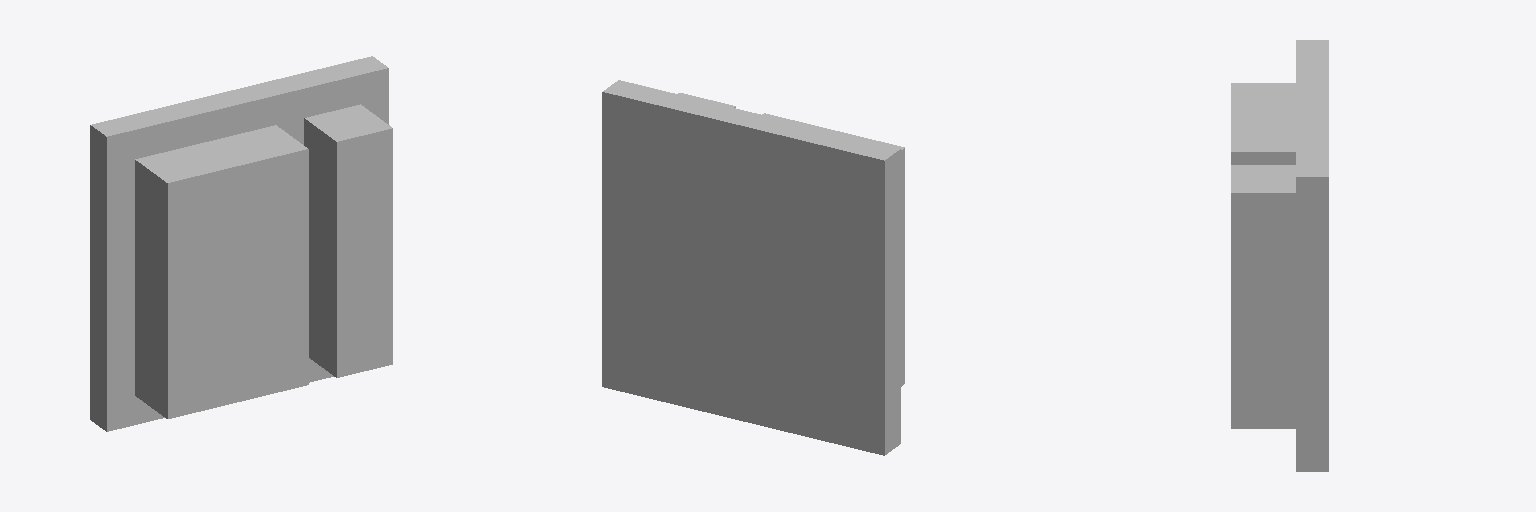
File: Card Reader.obj
3 views of the same model, side by side, from view 1: azimuth 30°, elevation 25°; view 2: azimuth 150°, elevation 25°; view 3: azimuth 270°, elevation 25° (orthographic).
Visible parts, largest first — view 1: object 1; view 2: object 1; view 3: object 1.
Boxes of the visible parts, x1,y1,x2,y2 form: object 1: [90, 56, 392, 431]; object 1: [602, 80, 904, 455]; object 1: [1231, 40, 1328, 471].
Size of the model in its own units: 1 by 1 by 0.3.